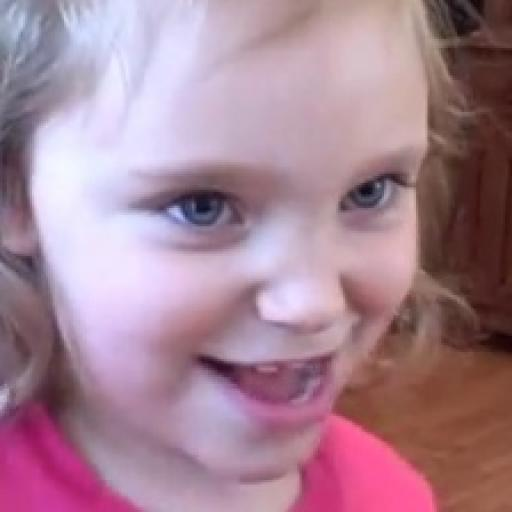Autism: (0, 1, 472, 479)
